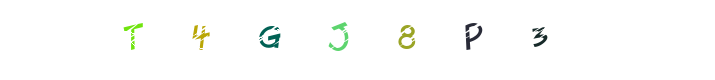3: (456, 0, 536, 80)
4: (264, 0, 344, 80)
8: (317, 0, 397, 80)
G: (281, 0, 361, 80)
J: (289, 0, 369, 80)
P: (321, 0, 401, 80)
T: (93, 0, 173, 80)
